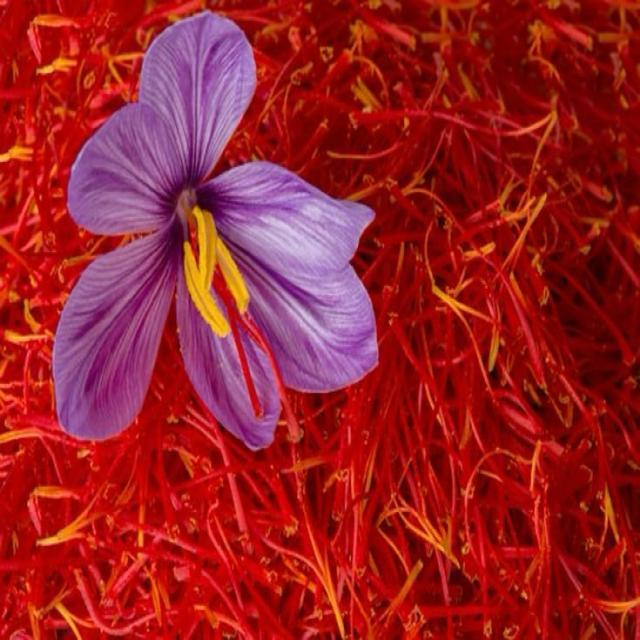Flower: (52, 11, 378, 449)
stigma: (216, 269, 289, 396), (209, 266, 267, 423)
